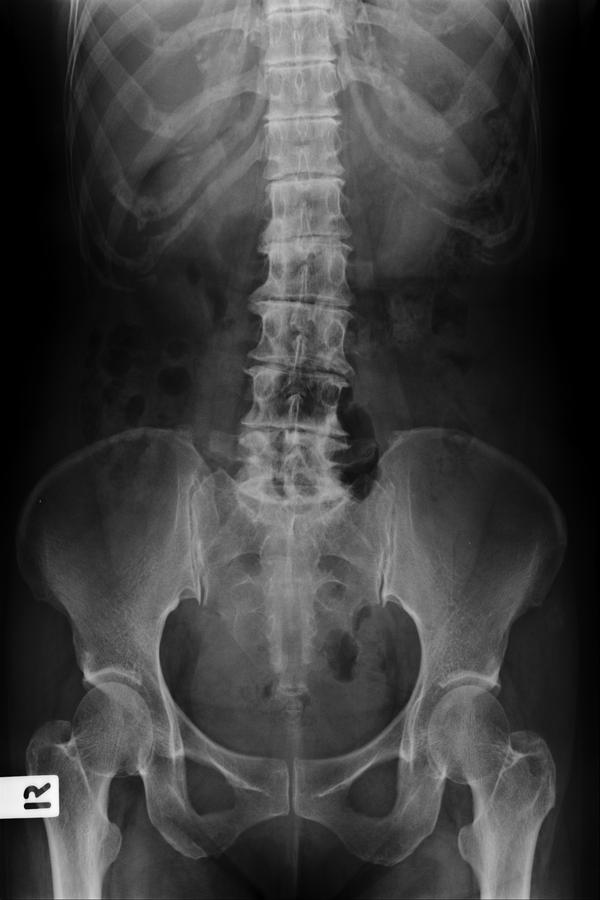lumbar scoliosis: (228, 122, 363, 508)
